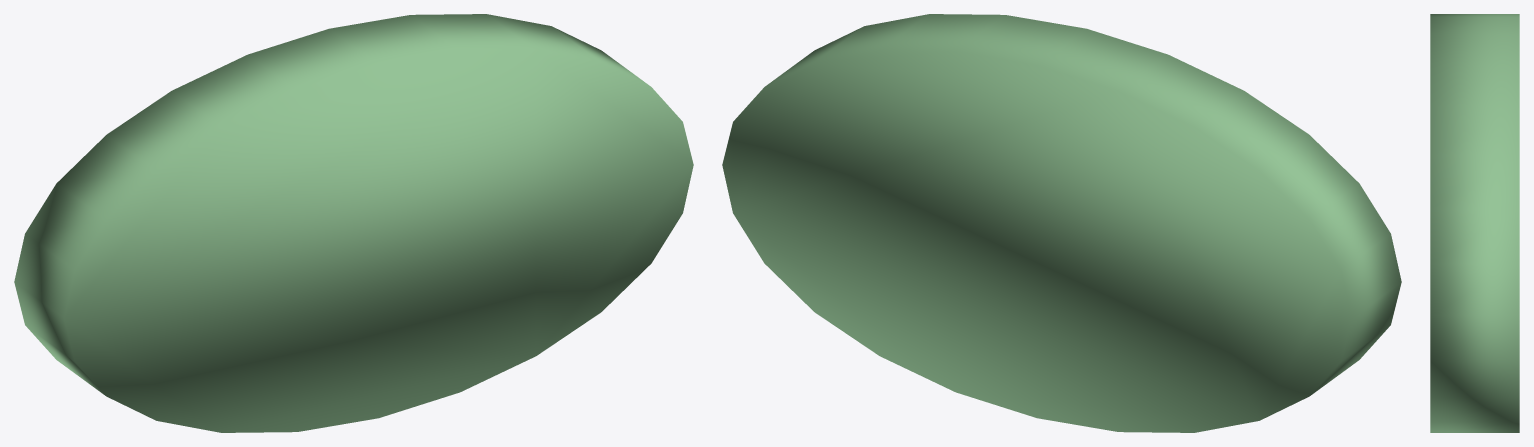
The model's file is shape-oval-green.glb.
3 views of the same model, side by side, from view 1: azimuth 30°, elevation 25°; view 2: azimuth 150°, elevation 25°; view 3: azimuth 270°, elevation 25° (orthographic). The views are drawn at different scales.
Parts seen in each view (by area): view 1: solid oval; view 2: solid oval; view 3: solid oval.
Boxes of the visible parts, bbox=[...] form: solid oval: bbox=[14, 14, 693, 432]; solid oval: bbox=[722, 14, 1401, 432]; solid oval: bbox=[1430, 14, 1519, 432].
Size of the model in its own units: 1.82 by 0.975 by 0.25.
